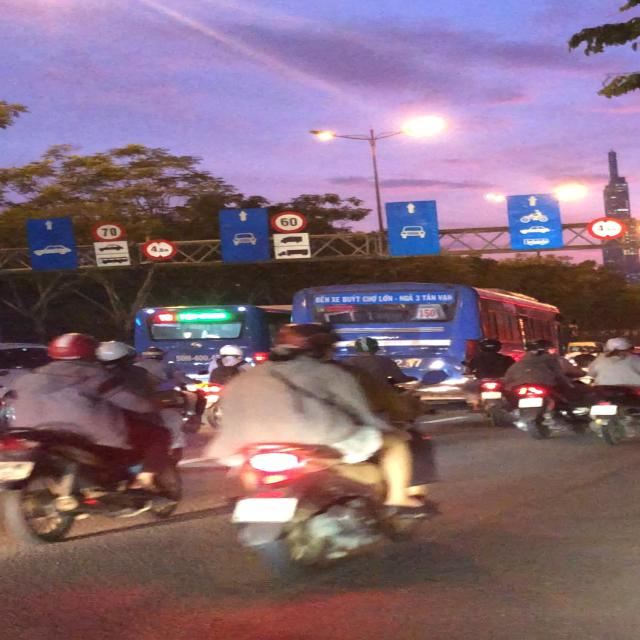Bien bao han che chieu cao: (583, 215, 630, 243), (138, 238, 178, 259)
Bien bao toc do toi da cho phep: (266, 211, 312, 234), (88, 220, 129, 243)
